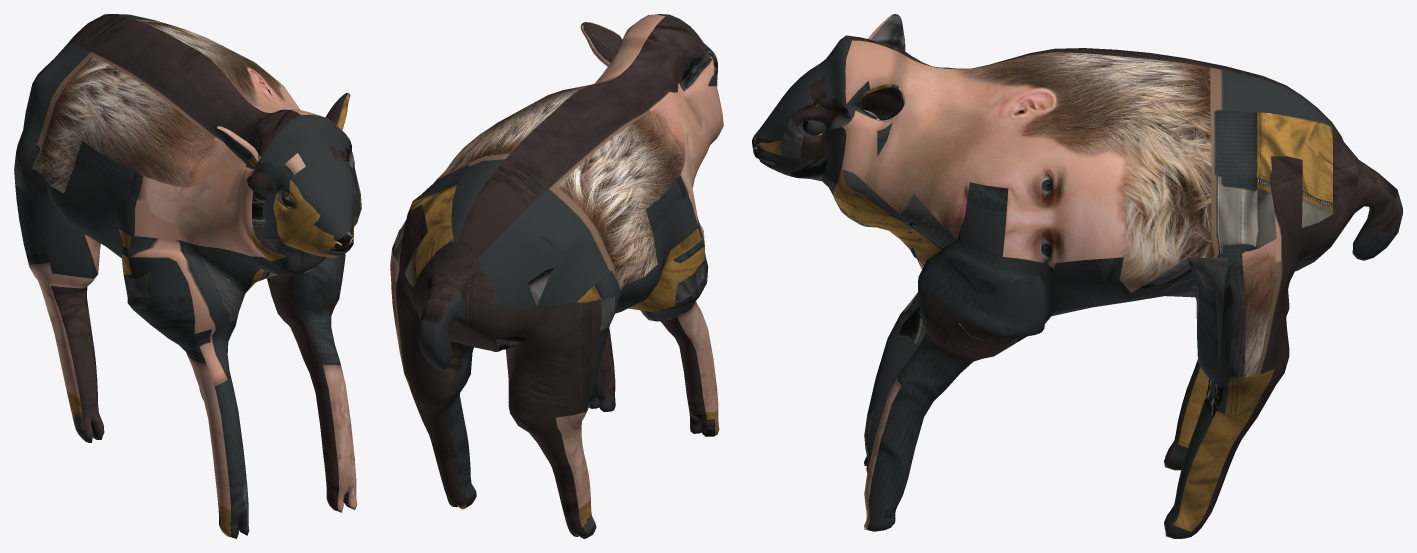
File: sheep.dae
3 views of the same model, side by side, from view 1: azimuth 30°, elevation 25°; view 2: azimuth 150°, elevation 25°; view 3: azimuth 270°, elevation 25° (orthographic). The views are drawn at different scales.
Parts seen in each view (by area): view 1: skp84E4; view 2: skp84E4; view 3: skp84E4.
Part boxes in pixels (bbox=[...]): skp84E4: bbox=[14, 14, 361, 538]; skp84E4: bbox=[390, 14, 723, 538]; skp84E4: bbox=[752, 14, 1402, 538].
Bounding box in the file's own units: 21.5 × 47.07 × 36.89.
